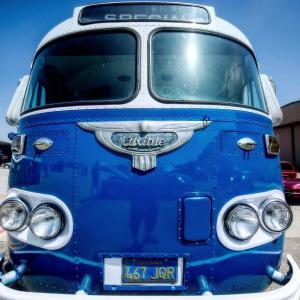Vehicle-registration-plate: (135, 262, 188, 290)
